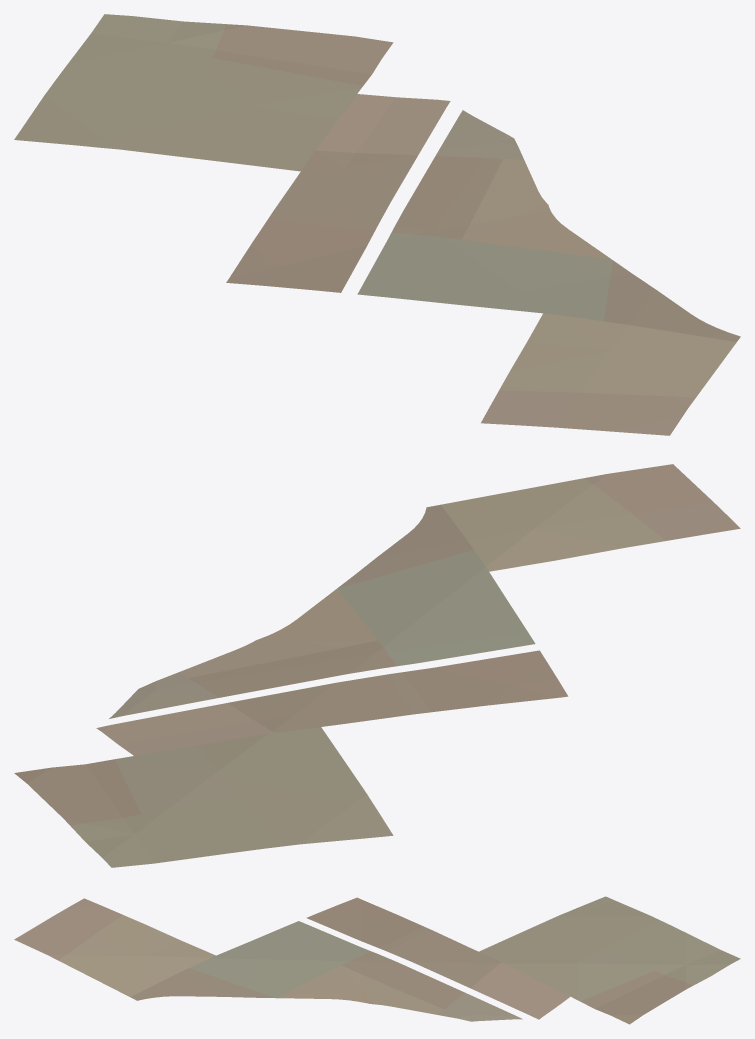
Rendered from farm_4_-6_soil.glb.
3 renders of one model, top to bottom at view 1: azimuth 30°, elevation 25°; view 2: azimuth 150°, elevation 25°; view 3: azimuth 270°, elevation 25°, orthographic. The views are drawn at different scales.
Parts seen in each view (by area): view 1: geometry_0; view 2: geometry_0; view 3: geometry_0.
Boxes of the visible parts, x1,y1,x2,y2 form: geometry_0: (14,14,740,435); geometry_0: (14,464,740,867); geometry_0: (14,896,740,1024).
Size of the model in its own units: 209 by 15.94 by 538.
